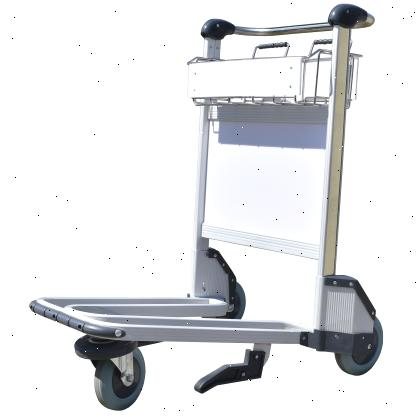airport-trolley: (28, 3, 385, 410)
